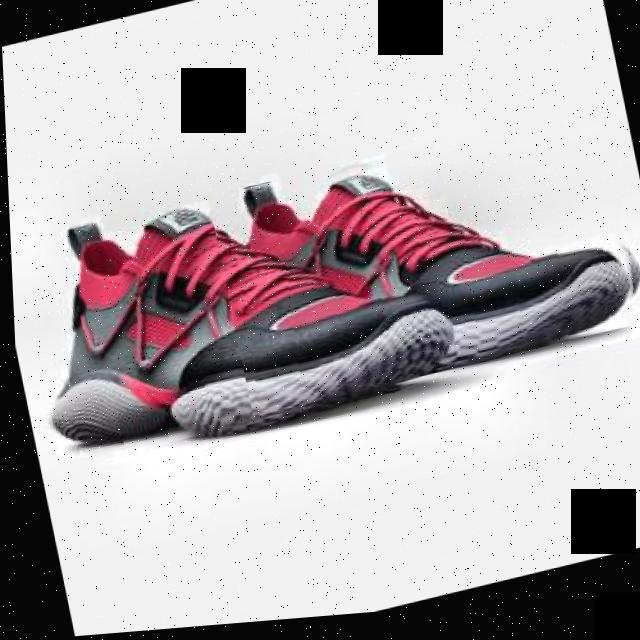shoe: (6, 146, 479, 475), (204, 108, 640, 423)
